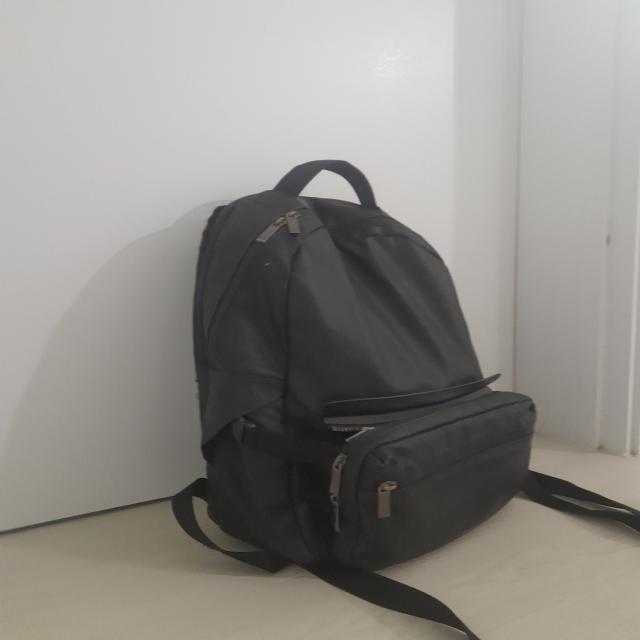backpack: (172, 157, 640, 640)
